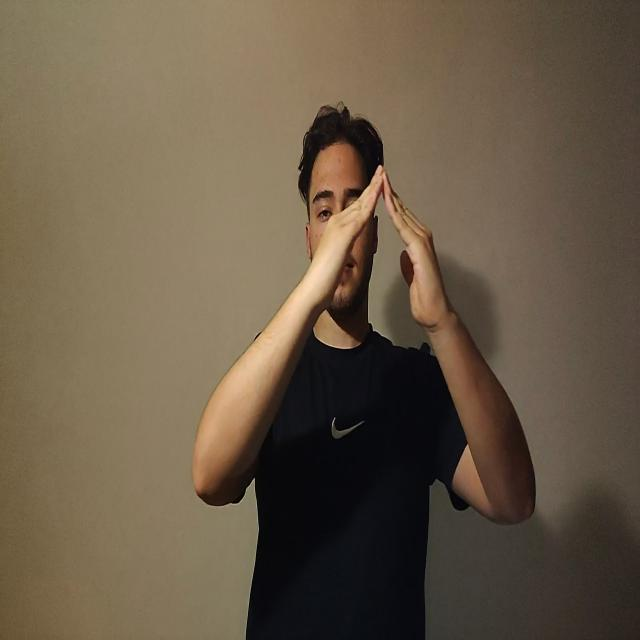house: (309, 166, 447, 333)
